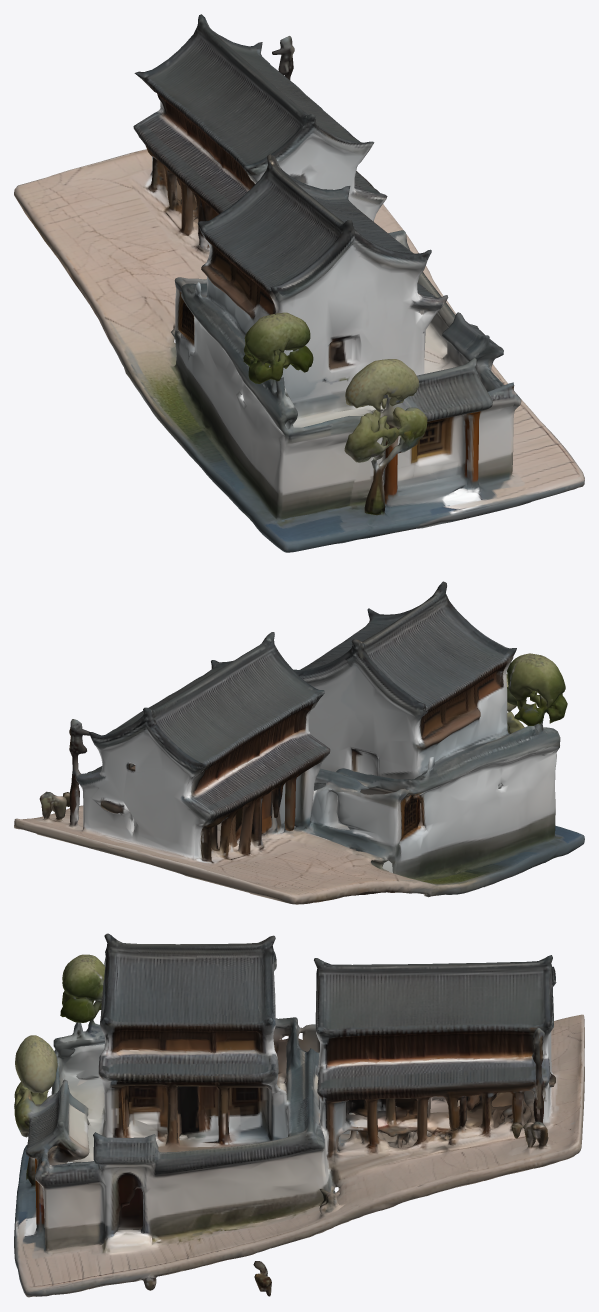
The picture shows the model from 3 angles, top to bottom: view 1: azimuth 30°, elevation 25°; view 2: azimuth 150°, elevation 25°; view 3: azimuth 270°, elevation 25°; orthographic projection. The views are drawn at different scales.
Parts seen in each view (by area): view 1: material.001; view 2: material.001; view 3: material.001.
Boxes of the visible parts, x1=… form: material.001: x1=14, y1=14, x2=584, y2=552; material.001: x1=14, y1=581, x2=584, y2=904; material.001: x1=14, y1=933, x2=584, y2=1297.
Bounding box in the file's own units: 0.607 × 0.5414 × 0.9684.
Materials: 1 (1 with a texture image).
